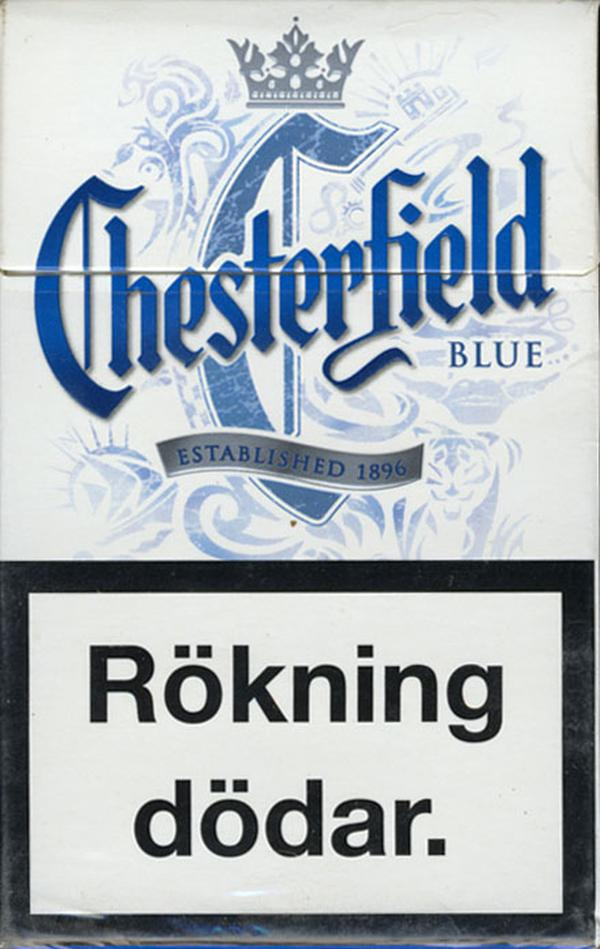chesterfield_blue: (3, 2, 598, 941)
